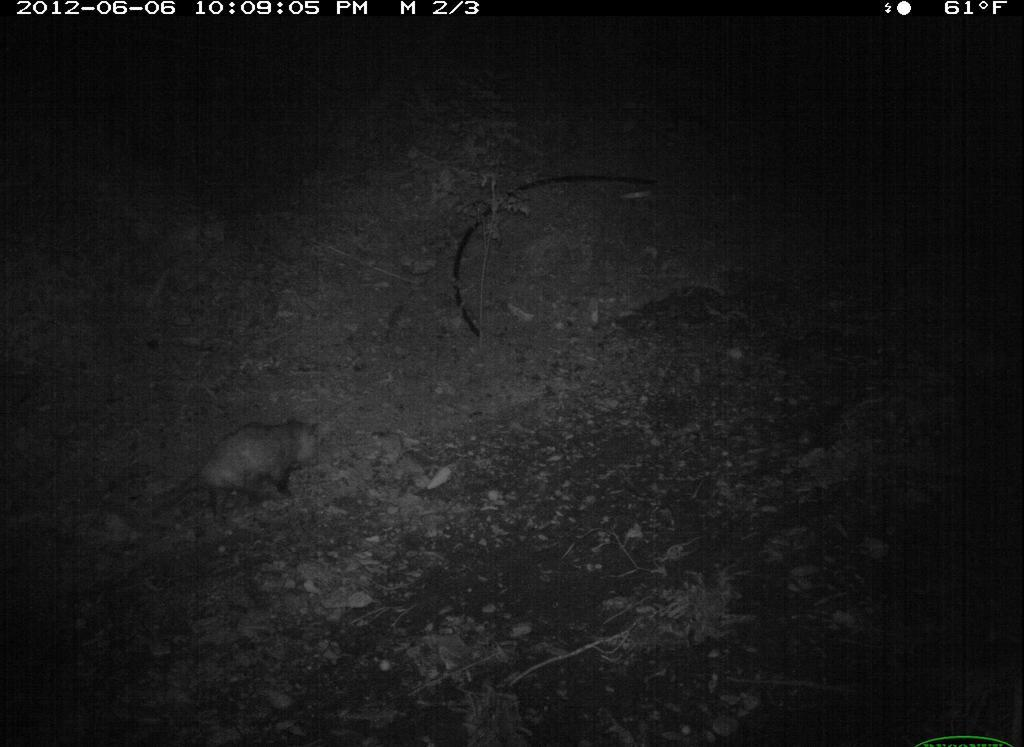opossum: (114, 409, 340, 552)
